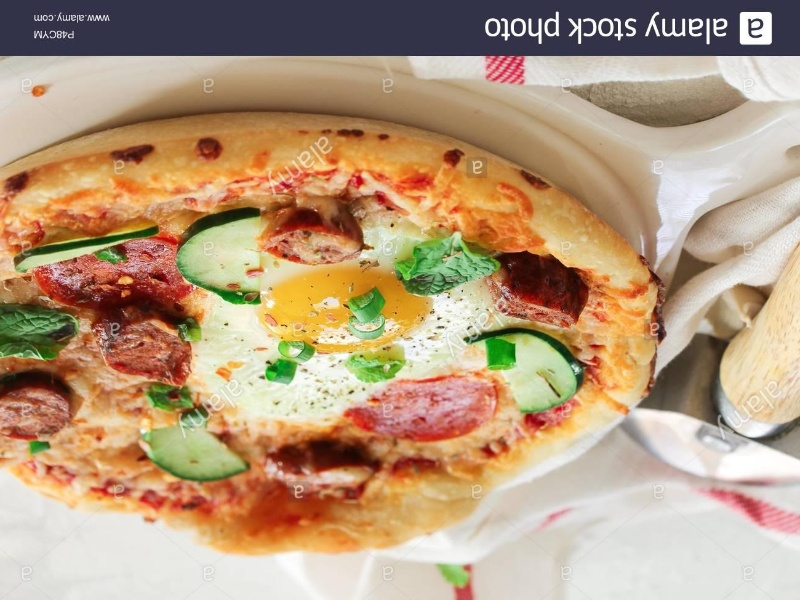oeuf: (245, 258, 441, 367)
